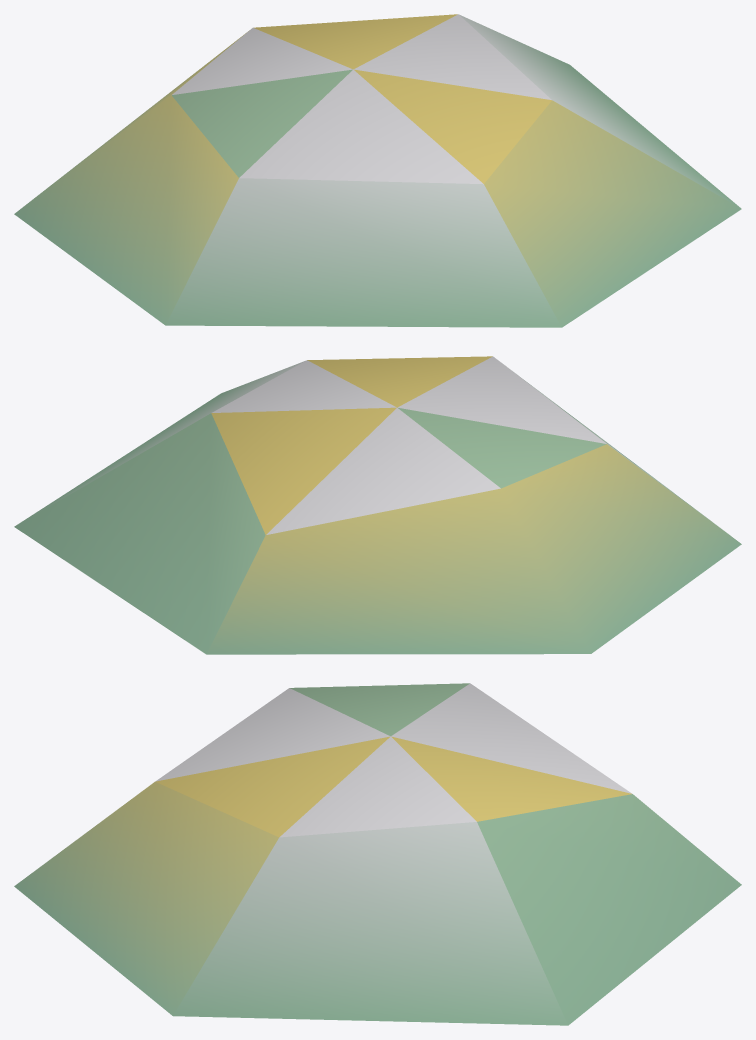
The model's file is crocus_patch_b_far.glb.
The picture shows the model from 3 angles, top to bottom: view 1: azimuth 30°, elevation 25°; view 2: azimuth 150°, elevation 25°; view 3: azimuth 270°, elevation 25°; orthographic projection. The views are drawn at different scales.
Visible parts, largest first — view 1: soft; view 2: soft; view 3: soft.
Part boxes in pixels (x1=…): soft: x1=14, y1=14, x2=741, y2=327; soft: x1=14, y1=356, x2=741, y2=654; soft: x1=14, y1=683, x2=741, y2=1025.
Bounding box in the file's own units: 0.6349 × 0.14 × 0.677.
